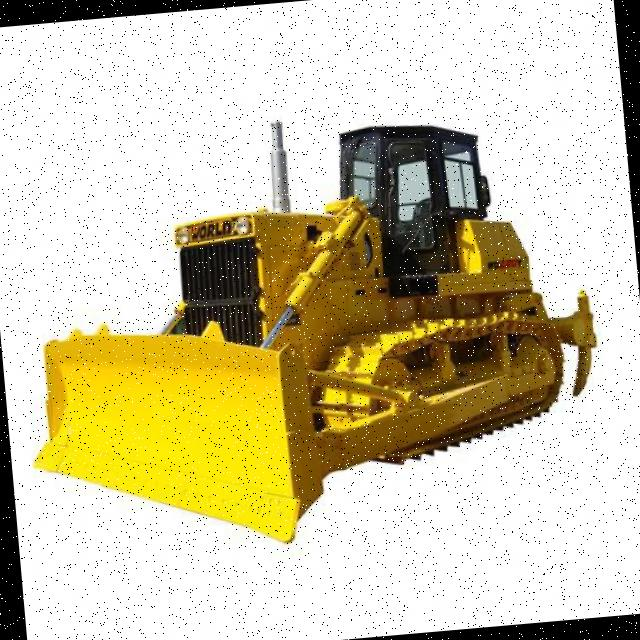Bulldozer: (7, 62, 640, 564)
